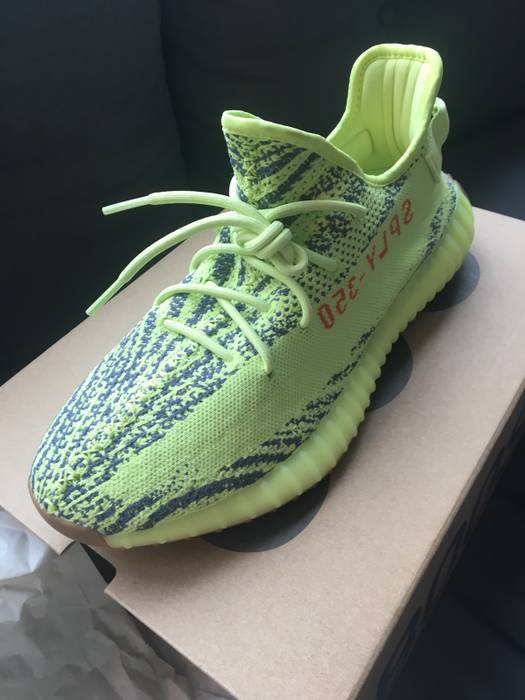Yeezy Semi-Frozen: (26, 19, 482, 550)
